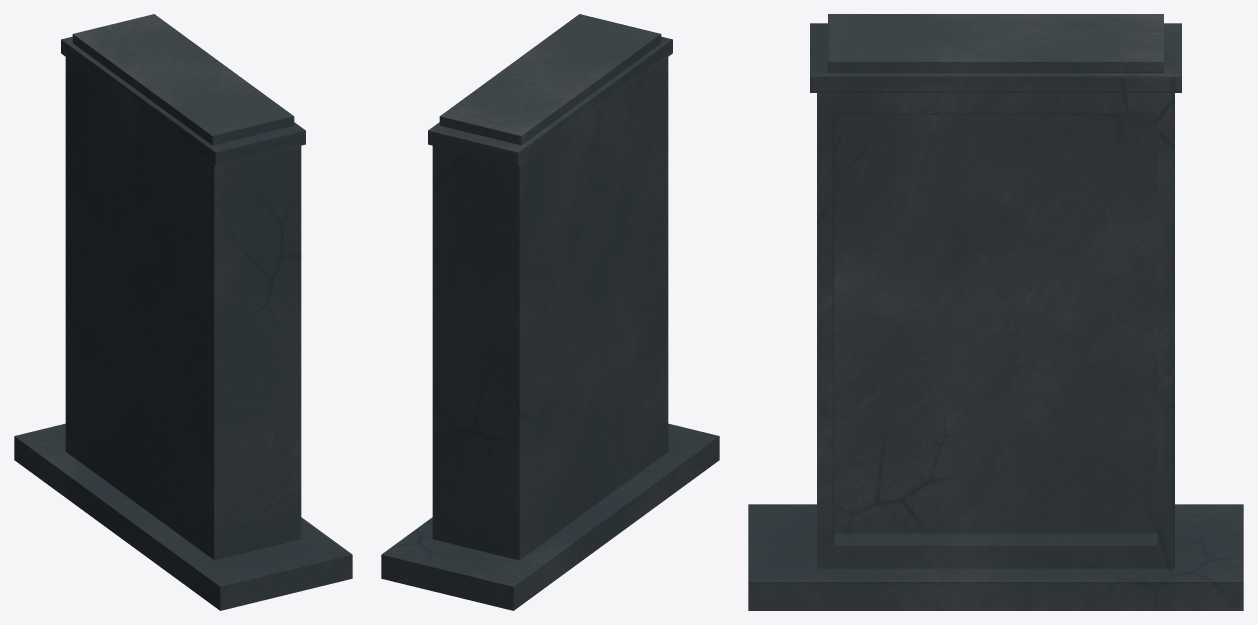
The model's file is Gravestone3_Model.fbx.
3 views of the same model, side by side, from view 1: azimuth 30°, elevation 25°; view 2: azimuth 150°, elevation 25°; view 3: azimuth 270°, elevation 25° (orthographic). The views are drawn at different scales.
Visible parts, largest first — view 1: Gravestone3; view 2: Gravestone3; view 3: Gravestone3.
Part boxes in pixels (<box>): Gravestone3: <box>14,14,352,610</box>; Gravestone3: <box>381,14,719,610</box>; Gravestone3: <box>748,14,1243,610</box>.
Size of the model in its own units: 15.11 by 48.52 by 40.77.
